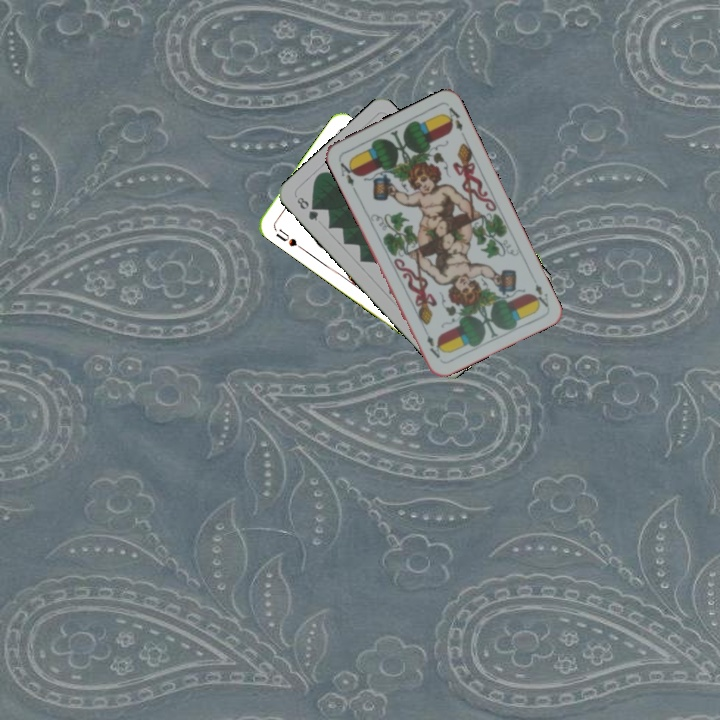EA: (336, 157, 359, 194), (528, 280, 551, 310)
G8: (293, 193, 321, 224)
SU: (270, 223, 305, 252)
